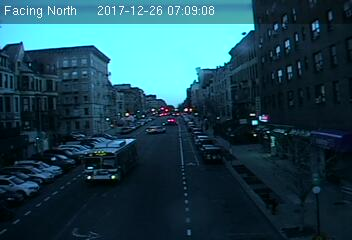bus: (83, 138, 139, 181)
